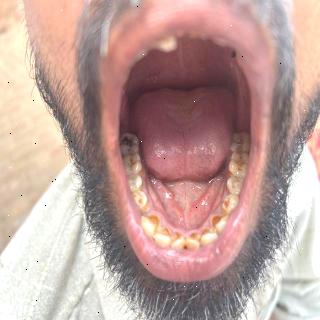LL1BC_decay: (222, 194, 238, 212)
LL1M_decay: (228, 152, 249, 176)
LL2BC_healthy: (227, 176, 243, 194)
LL2M_decay: (230, 131, 250, 153)
LLCI_decay: (186, 233, 201, 249)
LLC_decay: (213, 215, 227, 232)
LLLI_decay: (200, 229, 218, 244)
LR1BC_decay: (132, 191, 148, 208)
LR1M_decay: (122, 154, 144, 174)
LR2BC_decay: (127, 174, 143, 191)
LR2M_decay: (120, 133, 139, 154)
LRCI_decay: (171, 232, 186, 249)
LRC_decay: (141, 216, 159, 235)
LRLI_decay: (154, 228, 170, 247)
